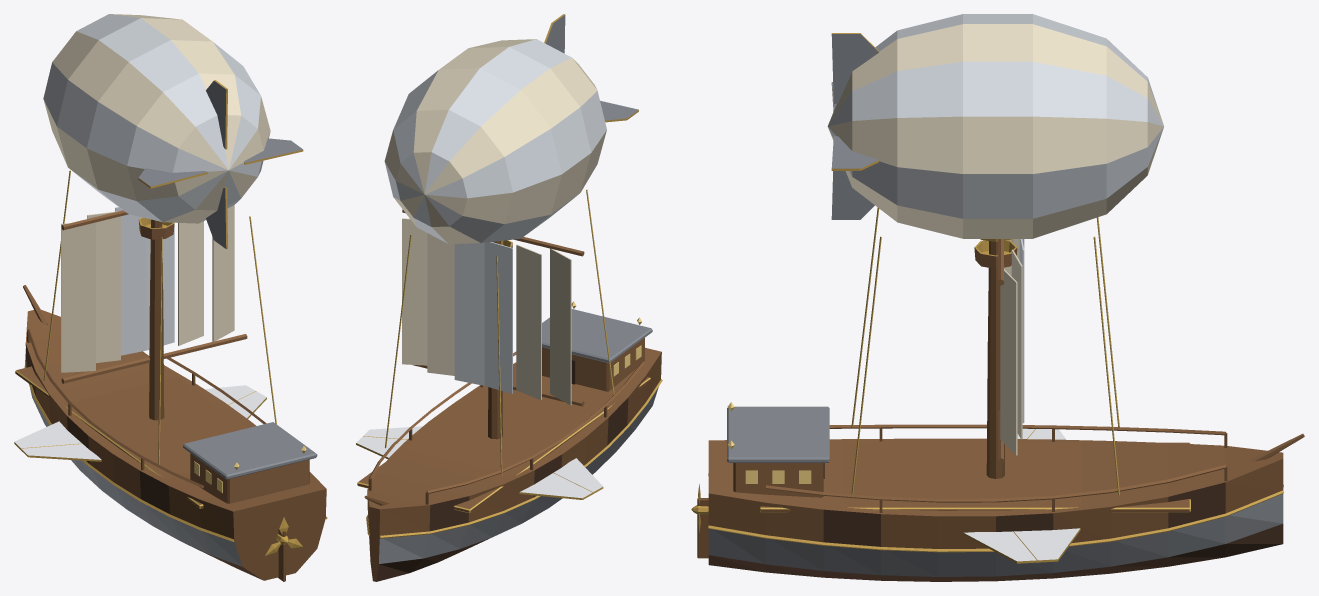
The model's file is Skyship.obj.
3 views of the same model, side by side, from view 1: azimuth 30°, elevation 25°; view 2: azimuth 150°, elevation 25°; view 3: azimuth 270°, elevation 25° (orthographic). The views are drawn at different scales.
Bounding box in the file's own units: 15.64 × 29.28 × 29.9.
